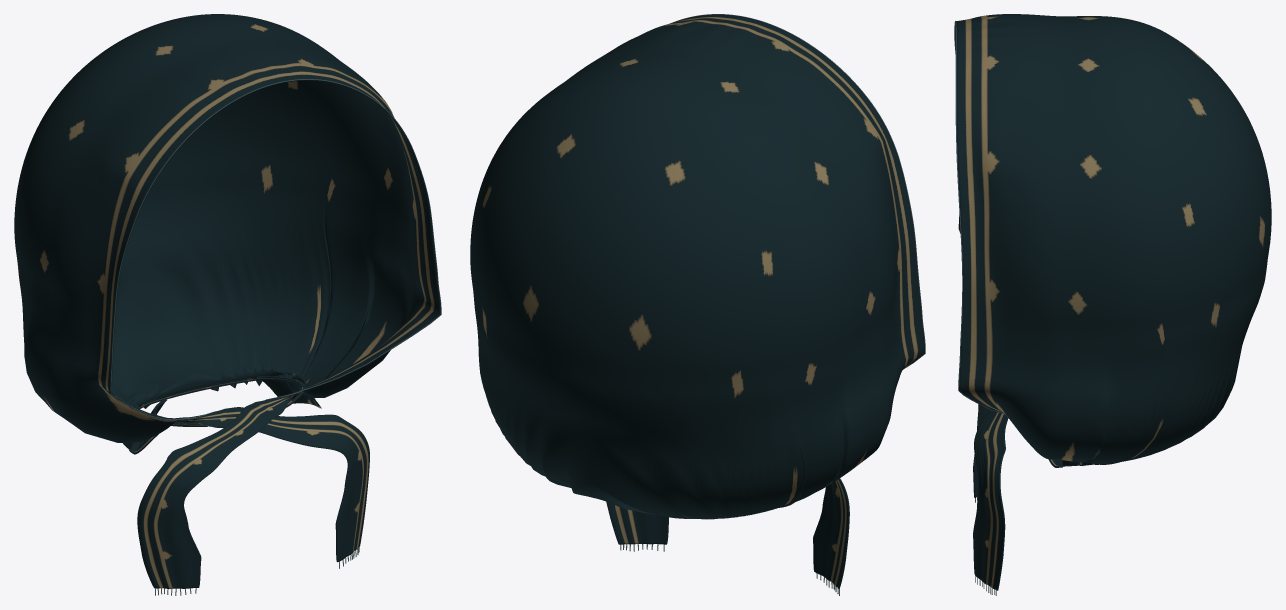
File: Masculine-Masculine-taper-sweatshirt-pashmina250-headgear-9de84c16.glb
3 views of the same model, side by side, from view 1: azimuth 30°, elevation 25°; view 2: azimuth 150°, elevation 25°; view 3: azimuth 270°, elevation 25° (orthographic). The views are drawn at different scales.
Visible parts, largest first — view 1: 226 headgear / Headwear / continuous woven pashmina239, 226 headgear / Headwear / face edge239; view 2: 226 headgear / Headwear / continuous woven pashmina239, 226 headgear / Headwear / face edge239; view 3: 226 headgear / Headwear / continuous woven pashmina239, 226 headgear / Headwear / face edge239.
Part boxes in pixels (left/top/right/bottom): 226 headgear / Headwear / continuous woven pashmina239: left=14, top=14, right=440, bottom=588; 226 headgear / Headwear / face edge239: left=110, top=79, right=441, bottom=420; 226 headgear / Headwear / continuous woven pashmina239: left=470, top=14, right=924, bottom=588; 226 headgear / Headwear / face edge239: left=671, top=14, right=925, bottom=369; 226 headgear / Headwear / continuous woven pashmina239: left=954, top=14, right=1271, bottom=590; 226 headgear / Headwear / face edge239: left=954, top=21, right=1003, bottom=413.
Size of the model in its own units: 0.8786 by 1.22 by 0.681.
Materials: 3 (1 with a texture image).
